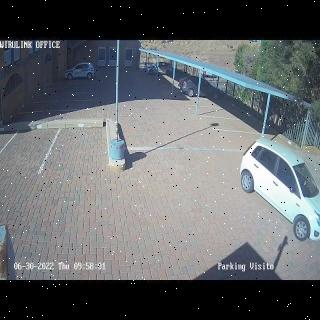car: (240, 140, 320, 248), (178, 76, 222, 101), (67, 62, 95, 79), (146, 61, 172, 76)
